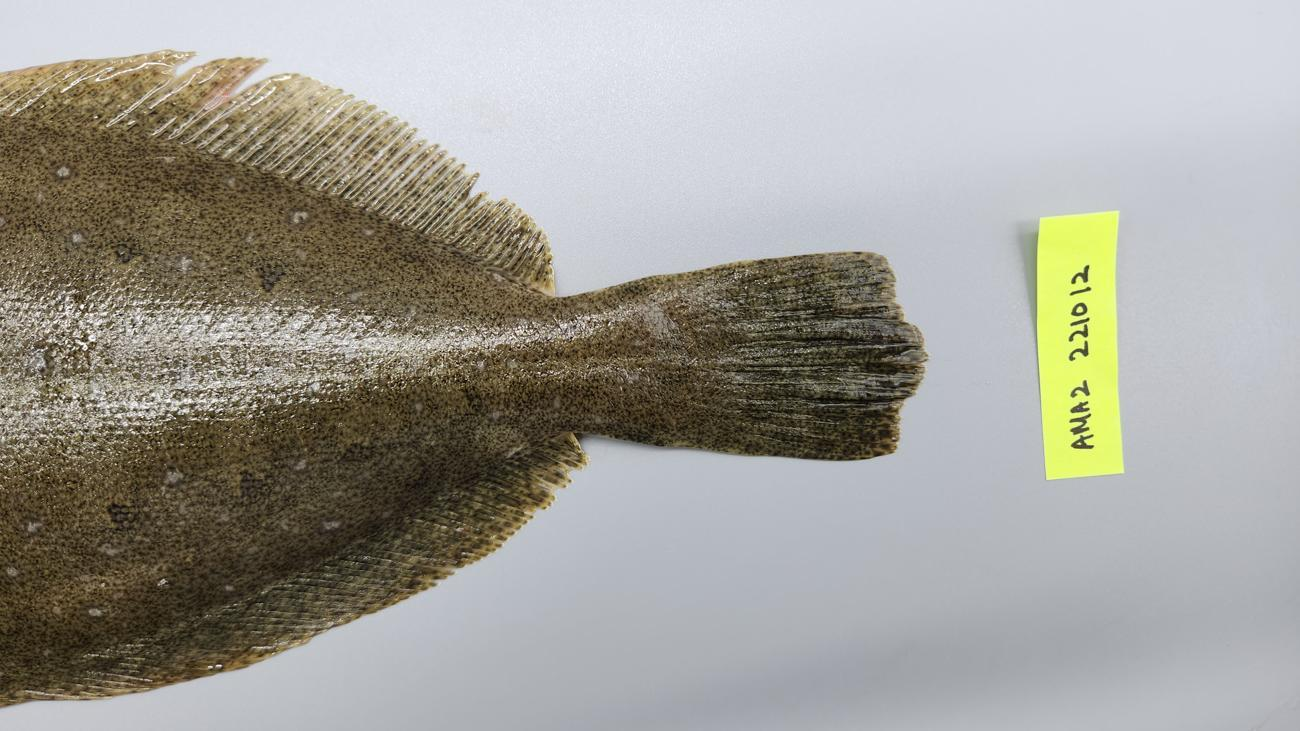MAFAH: (103, 630, 311, 694)
